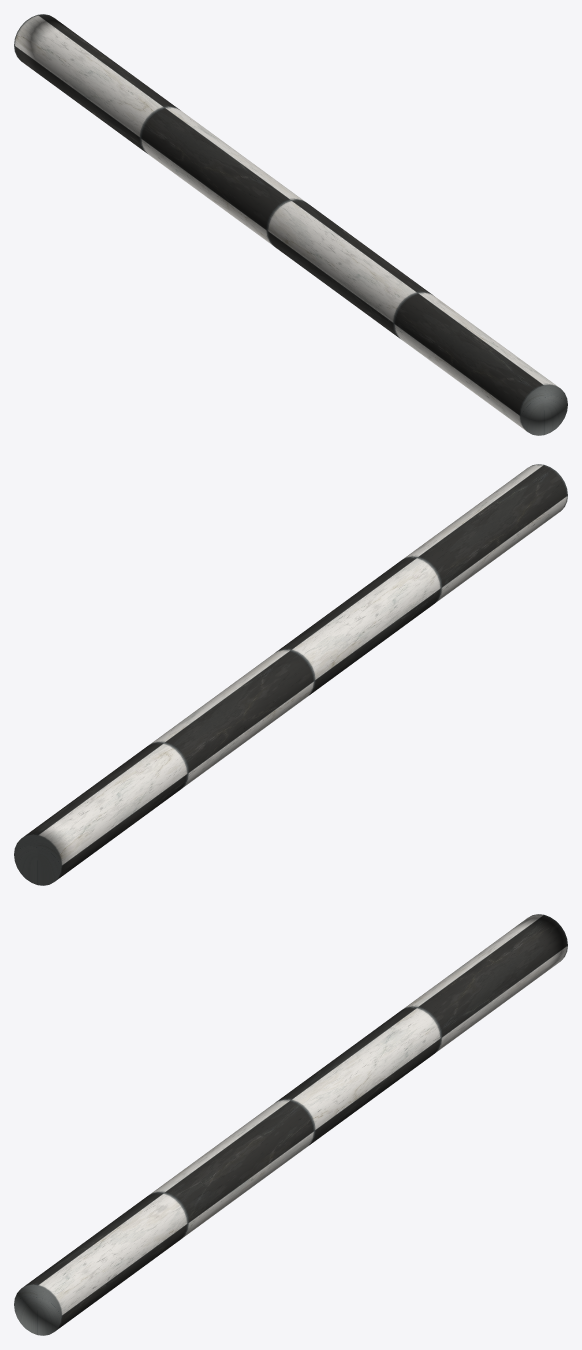
The model's file is column5.obj.
3 renders of one model, top to bottom at view 1: azimuth 30°, elevation 25°; view 2: azimuth 150°, elevation 25°; view 3: azimuth 330°, elevation 25°, orthographic.
Parts seen in each view (by area): view 1: object; view 2: object; view 3: object.
Part boxes in pixels (box(x1,y1,x2,y2)): object: box(14, 14, 567, 435); object: box(14, 464, 567, 885); object: box(14, 914, 567, 1335).
Size of the model in its own units: 0.054 by 0.054 by 1.
